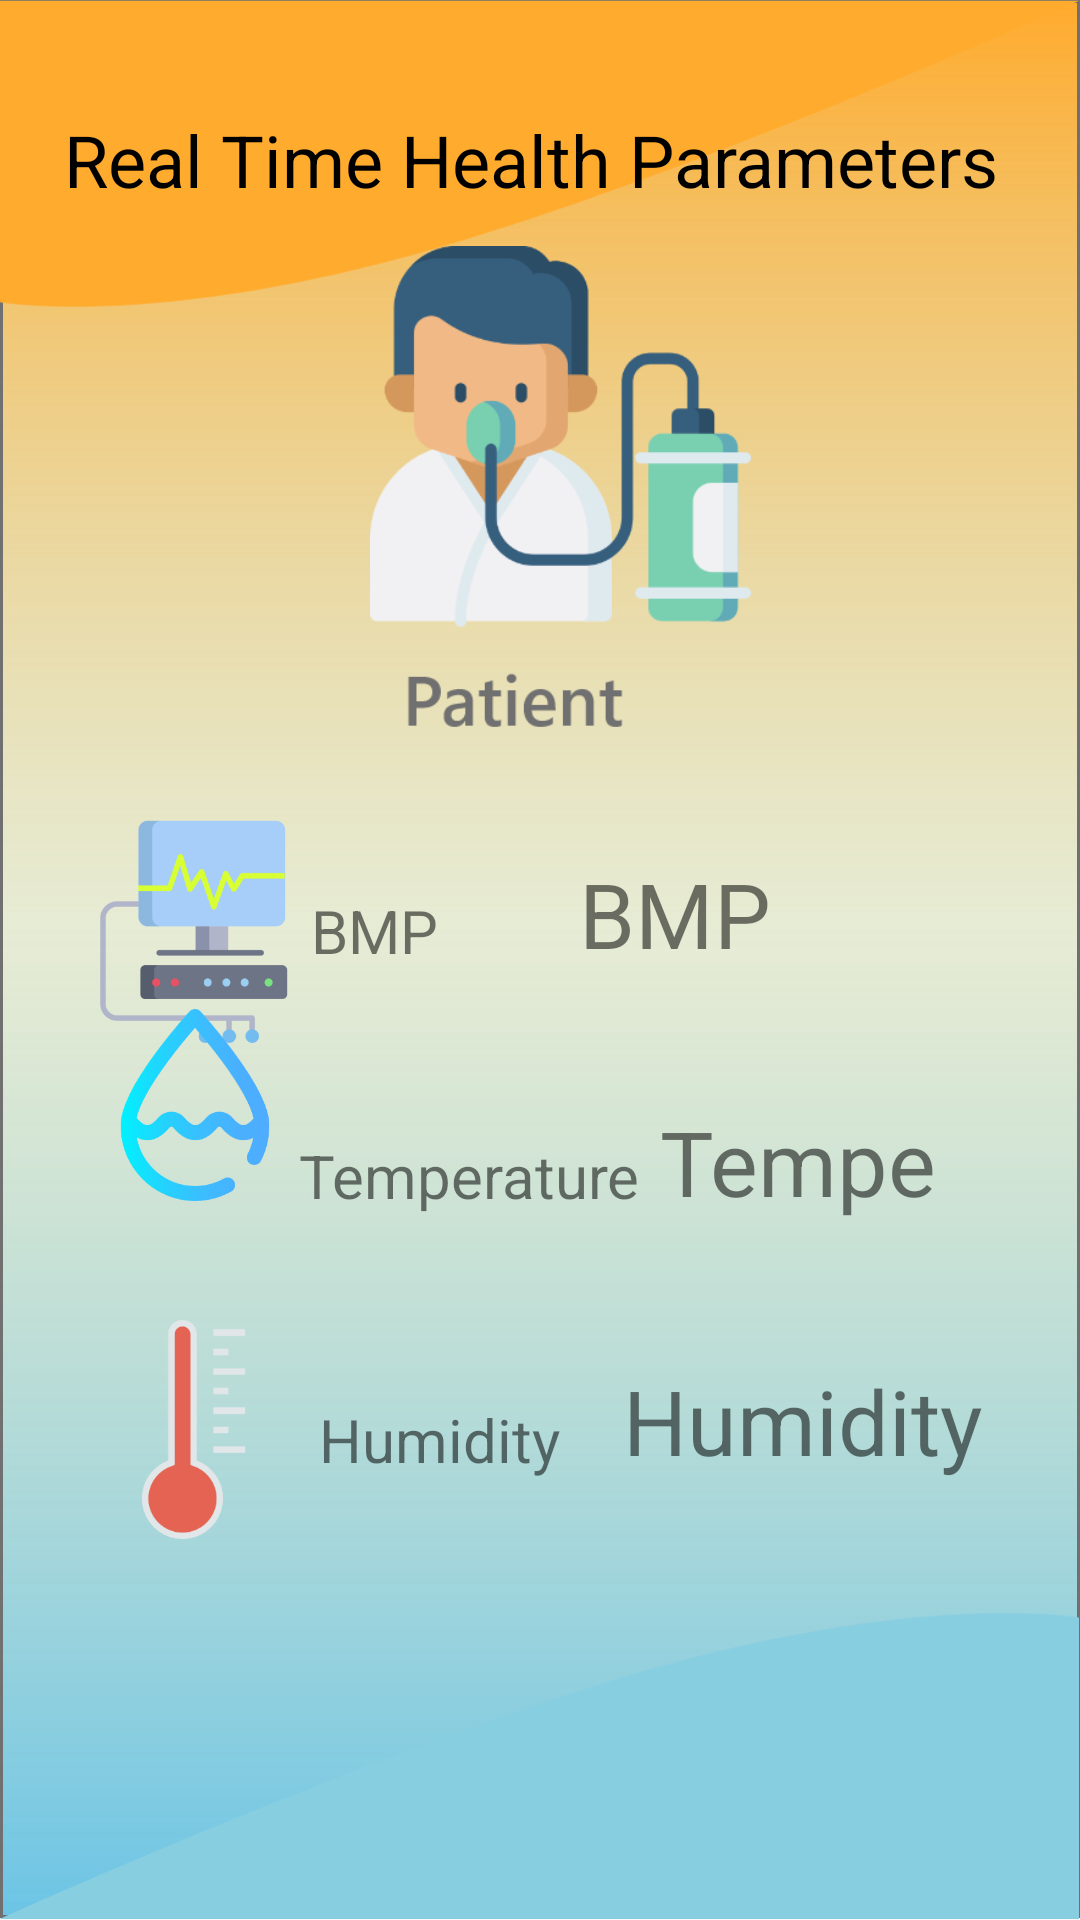

Where icons sit on this 1080x1920 app screen, as (x1, y1, x2, y2):
drop: (101, 1009, 330, 1201)
ekgmonitor: (100, 821, 288, 1064)
